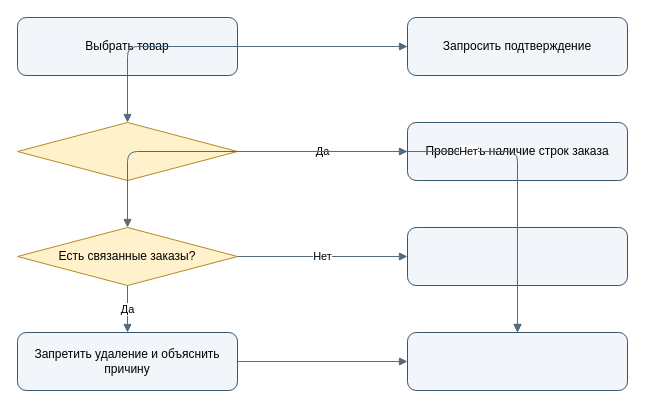
The diagram is 645 pixels wide and 408 high, and some of its shapes have lost their labels. Here are the shapes that lost their labels. From the top down, the box of each, then its label:
(16, 122, 238, 180): Пользователь подтвердил?
(406, 226, 628, 286): Удалить товар
(406, 332, 628, 390): Обновить каталог
